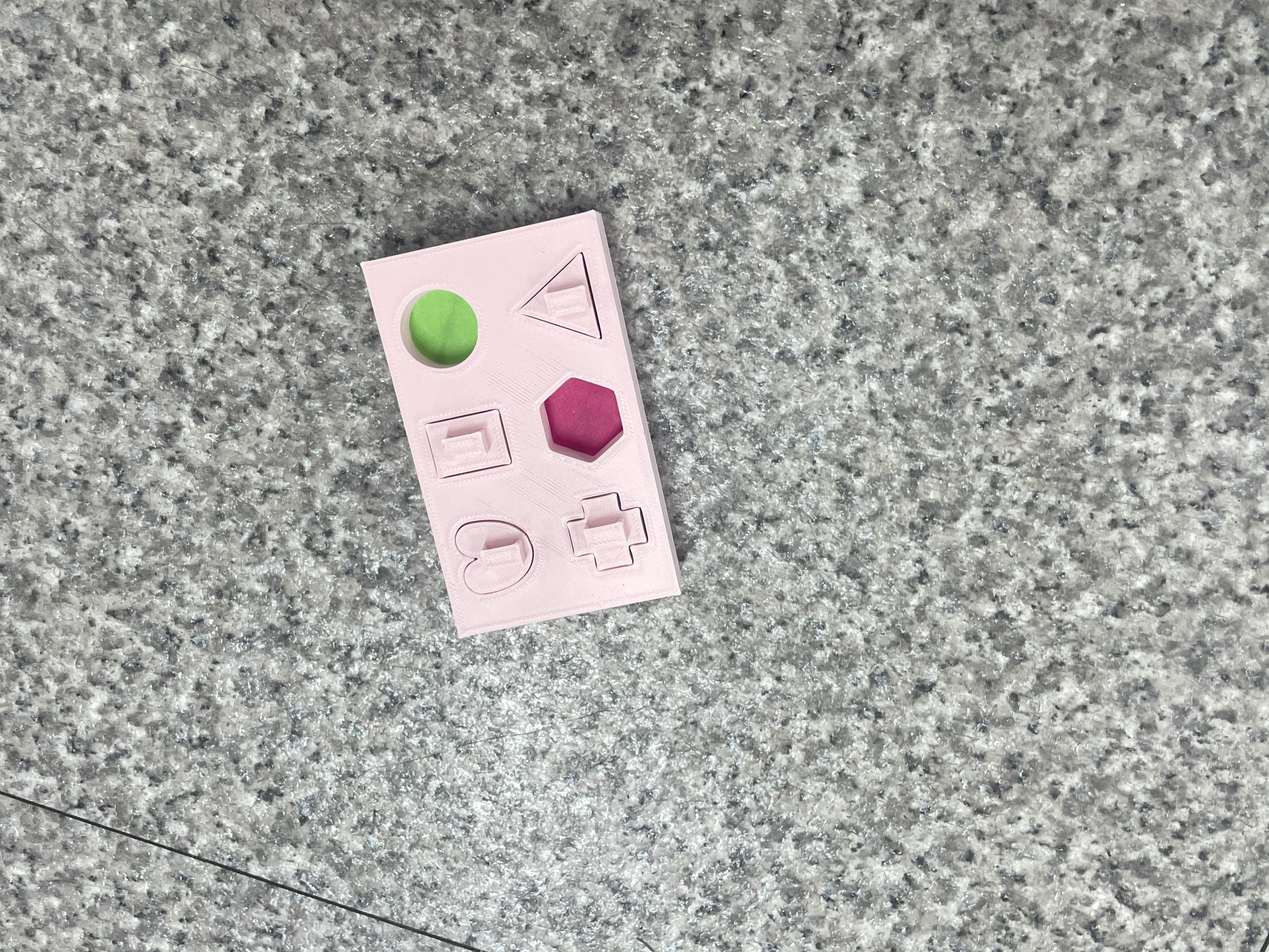unsolved: (346, 194, 711, 651)
